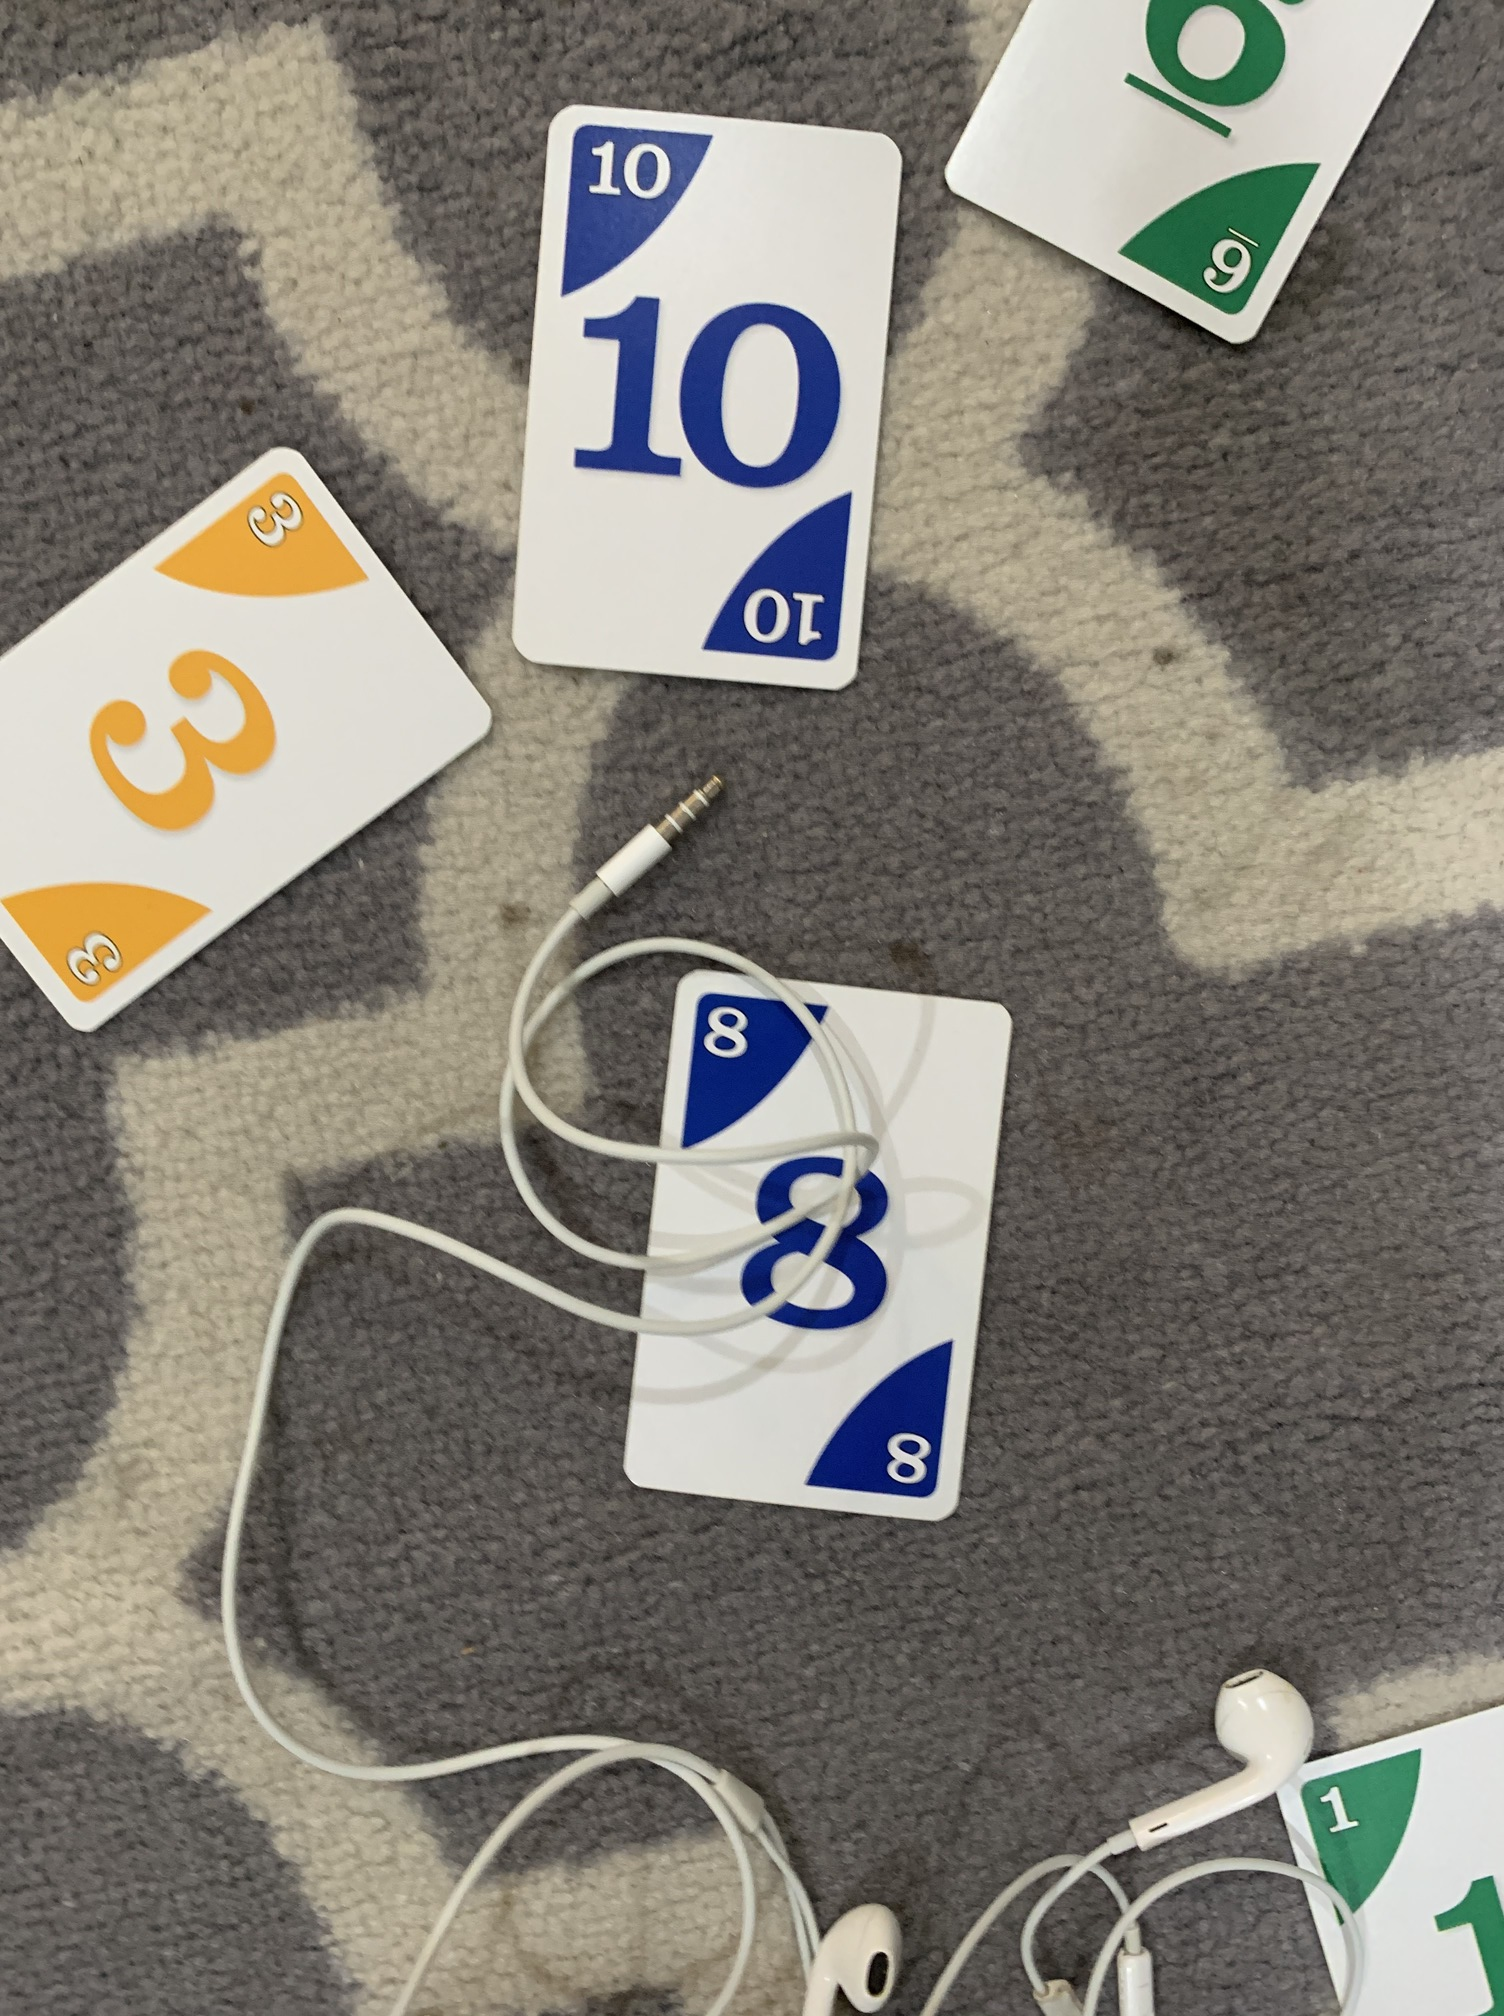eight: (613, 962, 1014, 1526)
ten: (501, 98, 908, 706)
three: (3, 412, 507, 1070)
